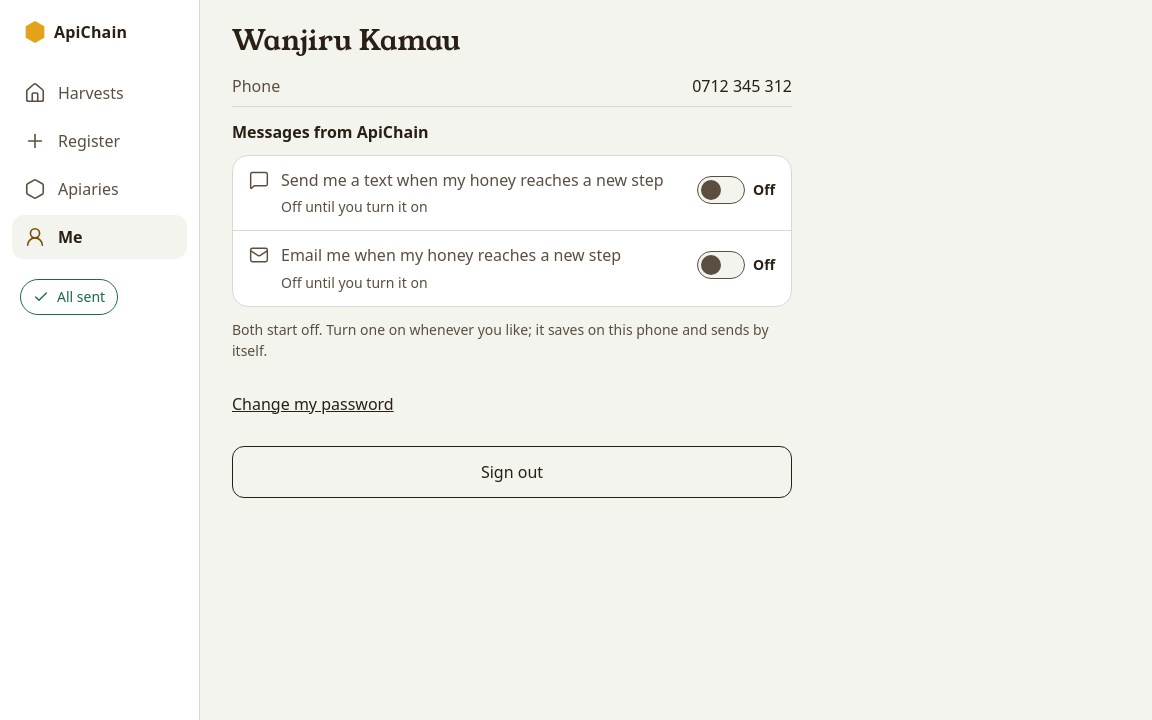
the farmer's own message choices › works offline after a reload, from what this phone last saw
Step 1. Click the 2nd switch named "Email me when my honey reaches a new step" → (721, 265), box x1=697 y1=243 x2=745 y2=287
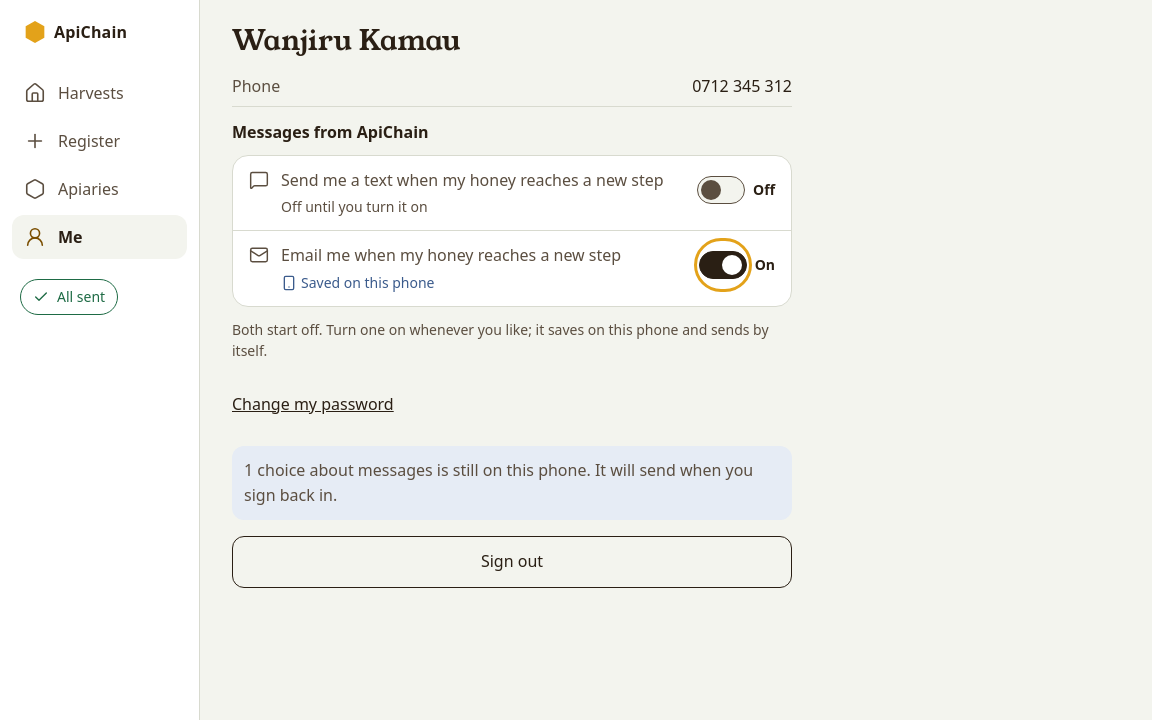
Expected: the text "Saved on this phone" is shown, x1=301 y1=272 x2=434 y2=294
